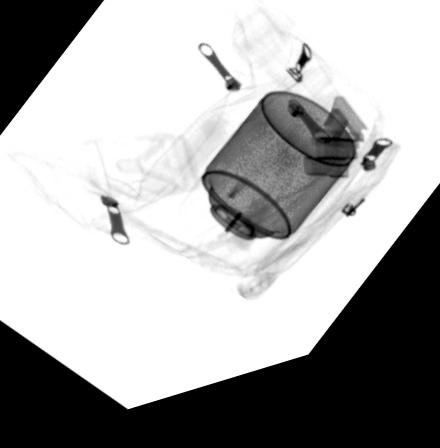Sprayer: (174, 104, 360, 290)
